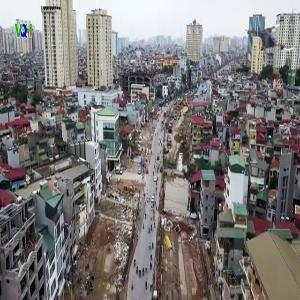drone: (244, 13, 297, 66)
